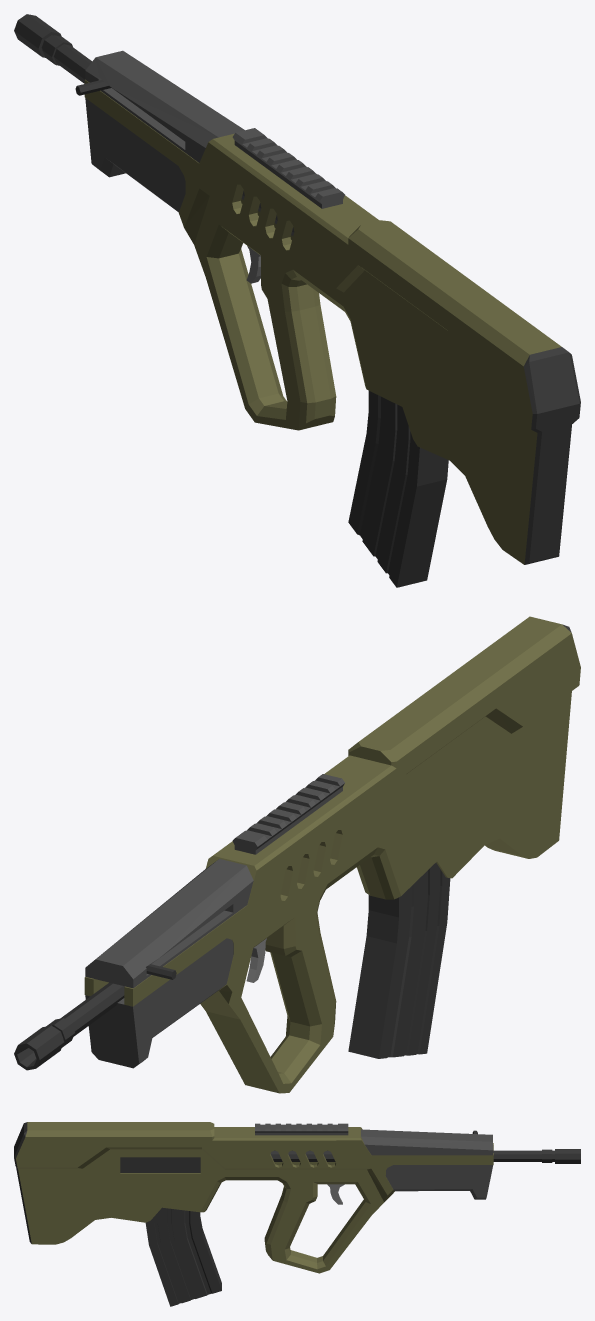
Rendered from TAR21.fbx.
The picture shows the model from 3 angles, top to bottom: view 1: azimuth 30°, elevation 25°; view 2: azimuth 150°, elevation 25°; view 3: azimuth 270°, elevation 25°; orthographic projection. The views are drawn at different scales.
Parts seen in each view (by area): view 1: TAR21, Magazin; view 2: TAR21, Magazin; view 3: TAR21, Magazin, Bolt.
Part boxes in pixels (x1,y1,x2,y2): TAR21: (14, 14, 580, 564); Magazin: (348, 391, 448, 587); TAR21: (14, 616, 580, 1093); Magazin: (348, 863, 450, 1058); TAR21: (14, 1122, 580, 1273); Magazin: (145, 1207, 221, 1306); Bolt: (120, 1130, 477, 1172).
Size of the model in its own units: 6.34 by 27.85 by 80.88.
Materials: 1 (1 with a texture image).
